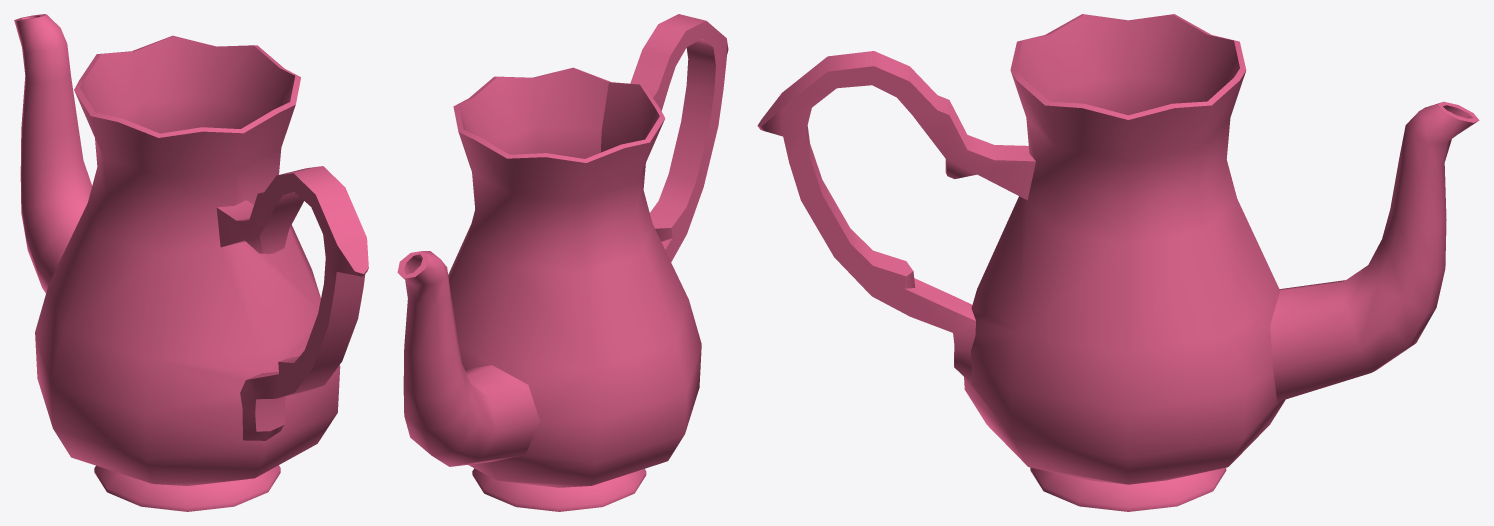
File: Tableware_V4_2.fbx
3 views of the same model, side by side, from view 1: azimuth 30°, elevation 25°; view 2: azimuth 150°, elevation 25°; view 3: azimuth 270°, elevation 25° (orthographic). The views are drawn at different scales.
Parts seen in each view (by area): view 1: SM_Tableware_V4_2; view 2: SM_Tableware_V4_2; view 3: SM_Tableware_V4_2.
Boxes of the visible parts, x1,y1,x2,y2 form: SM_Tableware_V4_2: (14, 14, 368, 511); SM_Tableware_V4_2: (397, 14, 728, 511); SM_Tableware_V4_2: (757, 14, 1479, 511).
Bounding box in the file's own units: 9.96 × 13.78 × 21.63.
